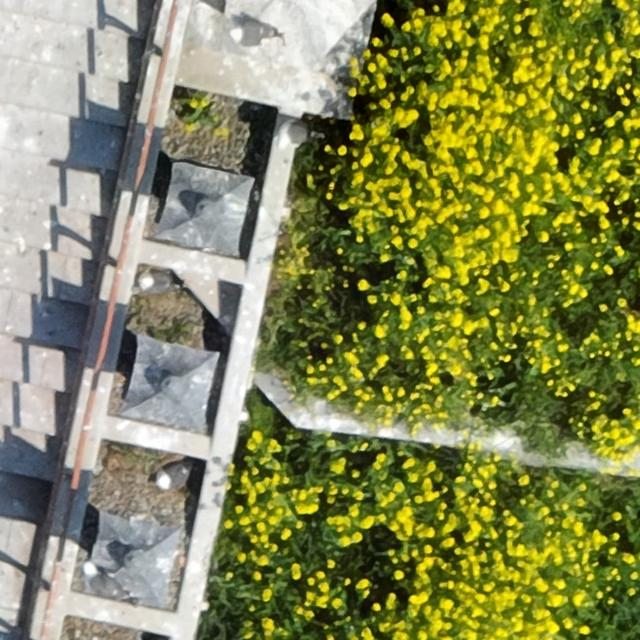umineko: (85, 564, 133, 601), (229, 18, 280, 48), (156, 466, 189, 488), (142, 274, 174, 292)
